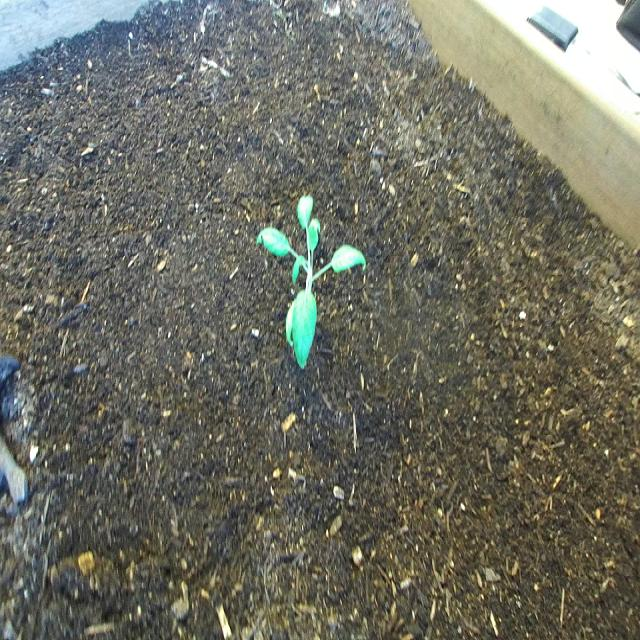Healthy: (252, 183, 372, 376)
